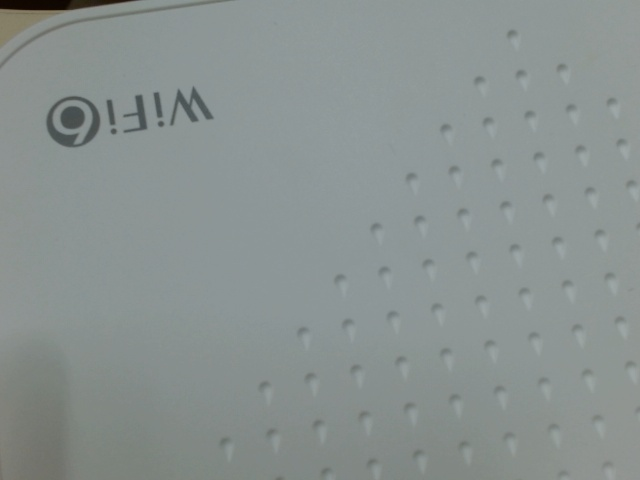AK_ZTEWIFI6: (38, 82, 226, 150)
